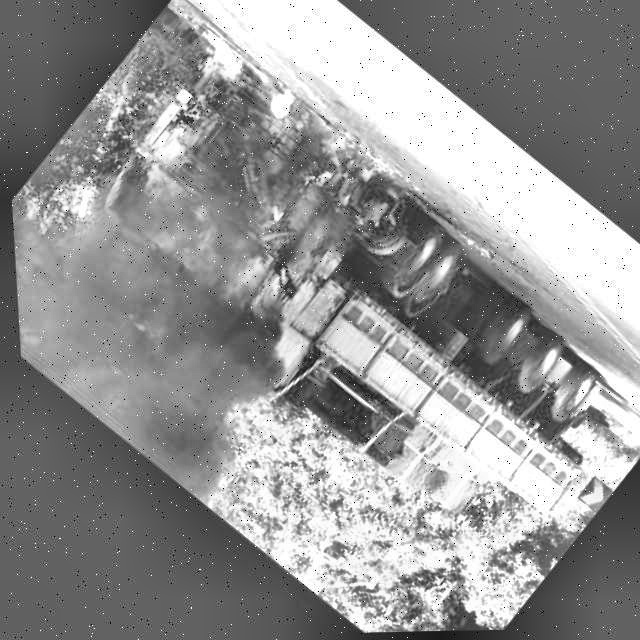Fire: (80, 145, 306, 356), (92, 147, 296, 334), (282, 113, 397, 225), (237, 85, 326, 174), (229, 92, 314, 177), (179, 37, 264, 118), (183, 47, 241, 102), (308, 128, 351, 170), (299, 163, 332, 194), (352, 158, 384, 189)
Smoke: (8, 160, 322, 515)
